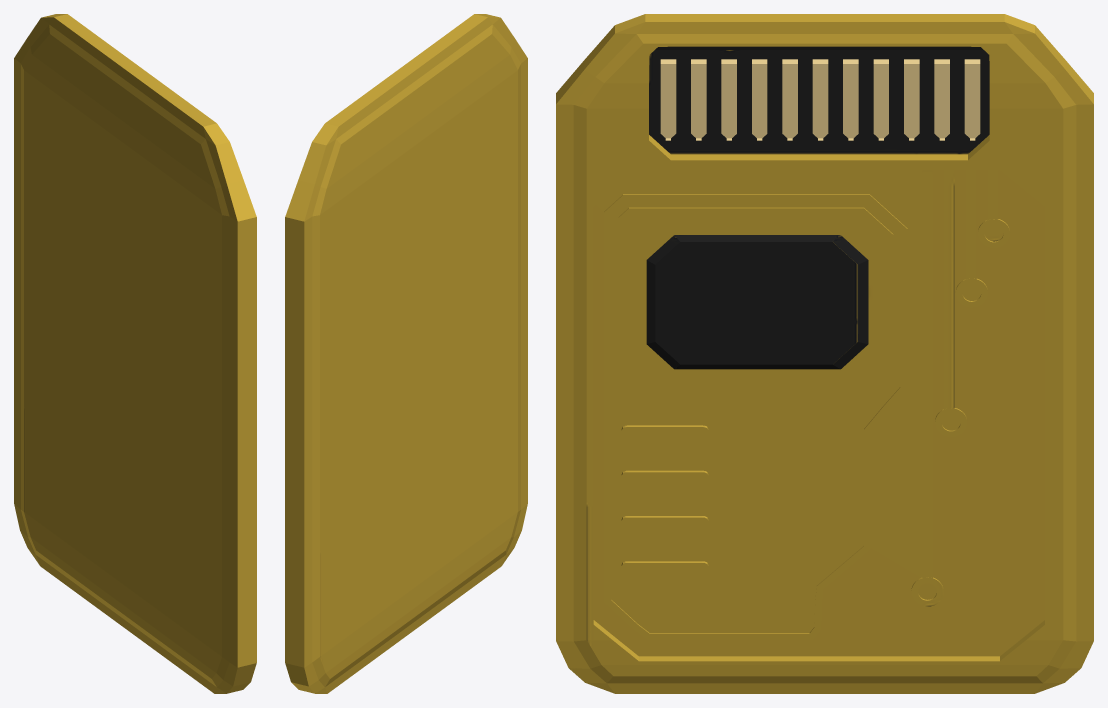
Rendered from chip_model.glb.
3 views of the same model, side by side, from view 1: azimuth 30°, elevation 25°; view 2: azimuth 150°, elevation 25°; view 3: azimuth 270°, elevation 25° (orthographic). The views are drawn at different scales.
Visible parts, largest first — view 1: Cube.014_2; view 2: Cube.014_2; view 3: Cube.014_2, Cube.015_4.
Boxes of the visible parts, left/top/right/bottom form: Cube.014_2: left=14, top=14, right=256, bottom=693; Cube.014_2: left=285, top=14, right=527, bottom=693; Cube.014_2: left=556, top=14, right=1093, bottom=693; Cube.015_4: left=660, top=59, right=980, bottom=140.
Bounding box in the file's own units: 0.2033 × 4.35 × 3.16.
Materials: 2 (2 with a texture image).
